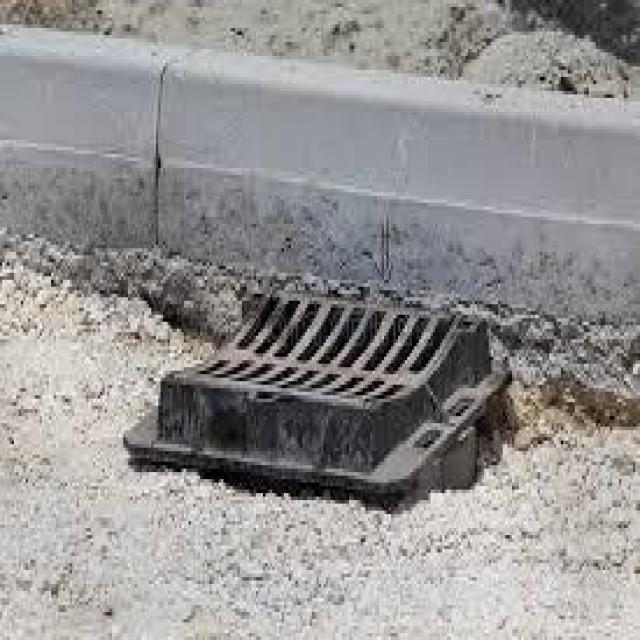curb: (303, 59, 640, 320), (1, 27, 293, 281)
